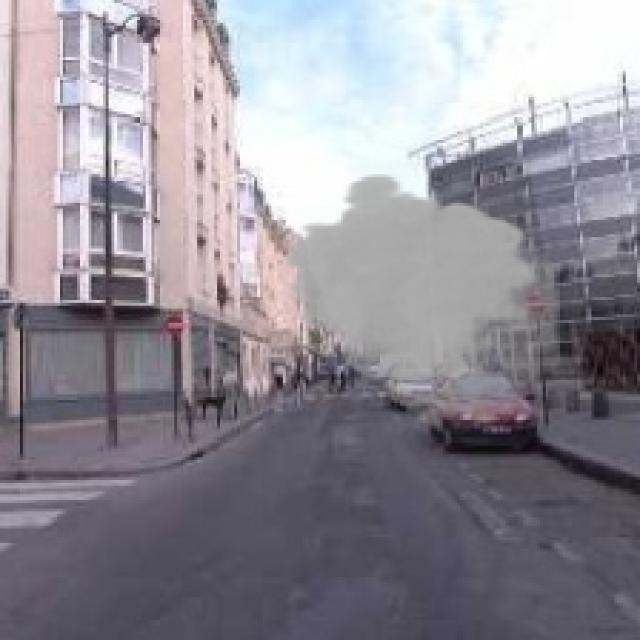smoke: (280, 172, 560, 437)
